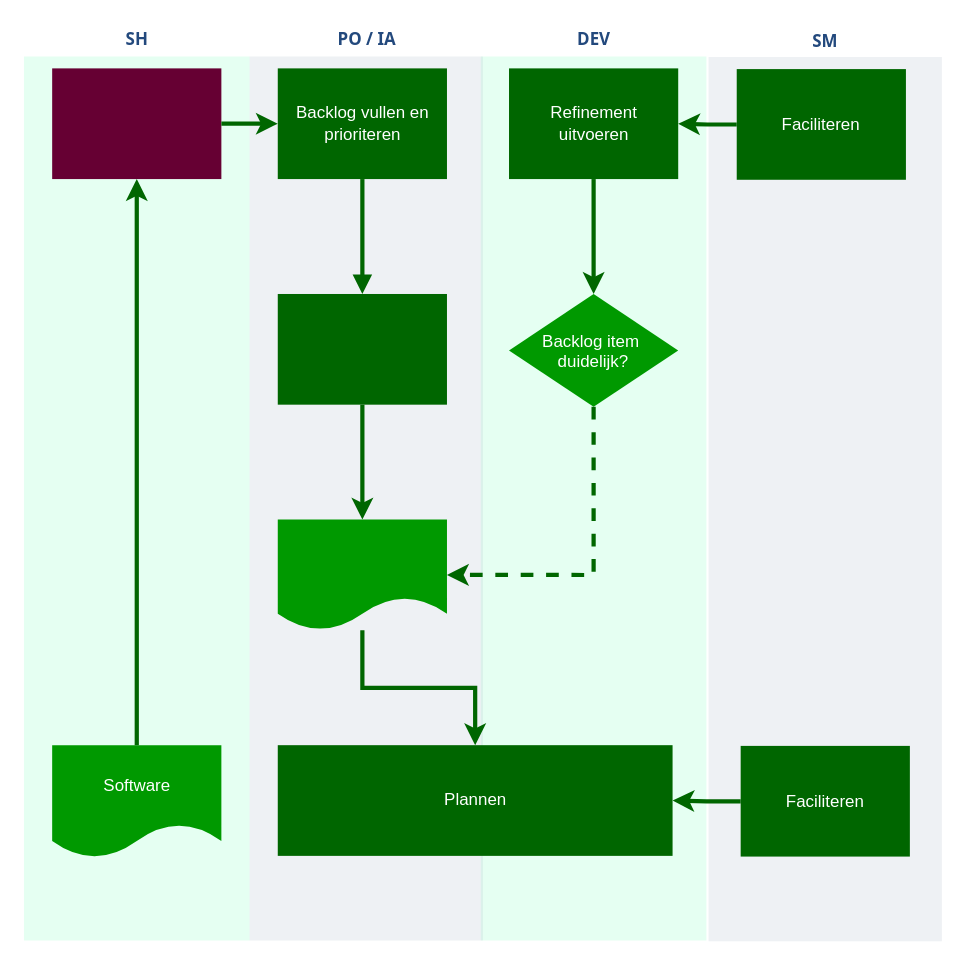
This 966x966 diagram has some shape labels left out. The shapes that lost their labels are listed below. From the top down, each one's centre as x and y in pixels, then its label:
point 136,123: START: Wensen specificeren
point 361,348: Backlog verduidelijken
point 361,574: Backlog Item
